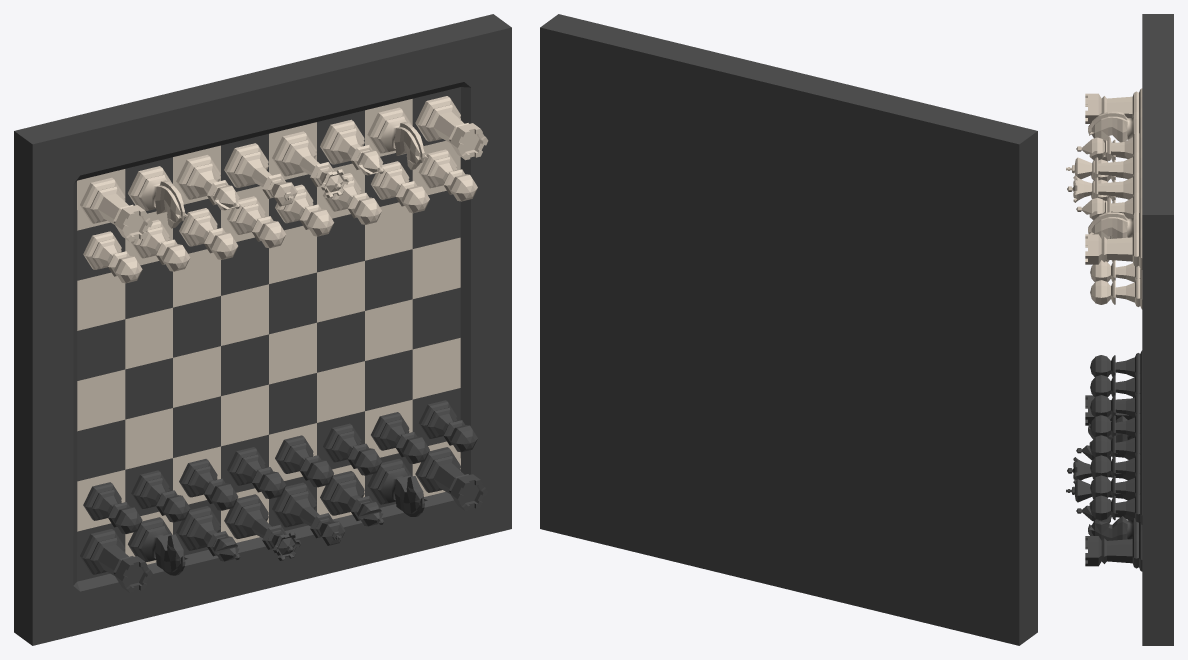
The picture shows the model from 3 angles, left to right: view 1: azimuth 30°, elevation 25°; view 2: azimuth 150°, elevation 25°; view 3: azimuth 270°, elevation 25°; orthographic projection. The views are drawn at different scales.
Parts seen in each view (by area): view 1: Board, Rook_0, Rook.003_0, Rook.001_0, Rook.002_0, Queen_0, Queen.001_0, King_0, King.001_0, Knight.002_0, Knight_0, Knight.003_0 (+21 smaller); view 2: Board; view 3: Board, Rook_0, Rook.002_0, Knight.001_0, Queen_0, King_0, Knight_0, Rook.001_0, Bishop.001_0, Pawn.008_0, Pawn_0, Knight.002_0 (+16 smaller).
Boxes of the visible parts, bbox=[...] form: Board: bbox=[14, 14, 511, 645]; Rook_0: bbox=[415, 96, 488, 160]; Rook.003_0: bbox=[80, 529, 152, 592]; Rook.001_0: bbox=[80, 177, 152, 241]; Rook.002_0: bbox=[415, 447, 488, 511]; Queen_0: bbox=[272, 131, 348, 198]; Queen.001_0: bbox=[224, 494, 300, 560]; King_0: bbox=[224, 143, 297, 206]; King.001_0: bbox=[272, 482, 345, 545]; Knight.002_0: bbox=[367, 458, 427, 516]; Knight_0: bbox=[367, 107, 427, 169]; Knight.003_0: bbox=[128, 517, 187, 575]; Board: bbox=[540, 14, 1037, 645]; Board: bbox=[1142, 14, 1173, 645]; Rook_0: bbox=[1085, 229, 1142, 269]; Rook.002_0: bbox=[1085, 531, 1142, 571]; Knight.001_0: bbox=[1088, 108, 1142, 142]; Queen_0: bbox=[1067, 169, 1142, 202]; King_0: bbox=[1066, 149, 1142, 179]; Knight_0: bbox=[1088, 209, 1142, 239]; Rook.001_0: bbox=[1085, 88, 1142, 123]; Bishop.001_0: bbox=[1076, 129, 1142, 160]; Pawn.008_0: bbox=[1090, 491, 1142, 524]; Pawn_0: bbox=[1090, 276, 1142, 309]; Knight.002_0: bbox=[1088, 515, 1142, 540].
Size of the model in its own units: 10 by 10 by 2.27.
